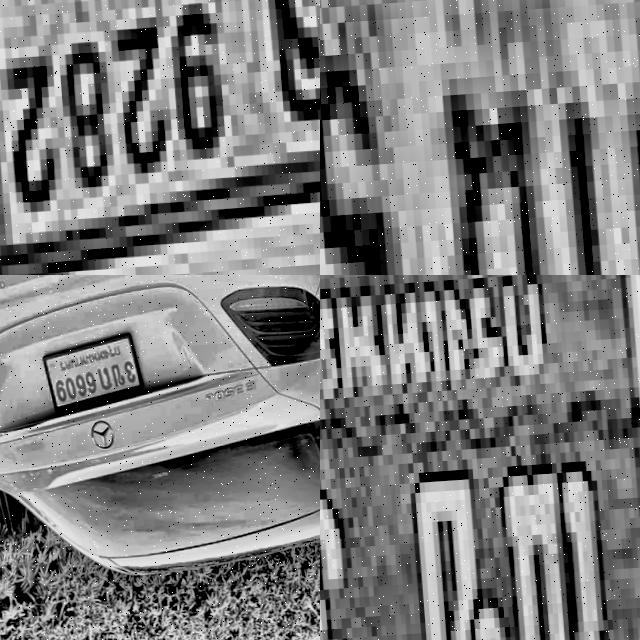license-plate: (320, 275, 640, 640), (0, 0, 320, 275), (320, 0, 640, 275), (38, 332, 146, 412)
